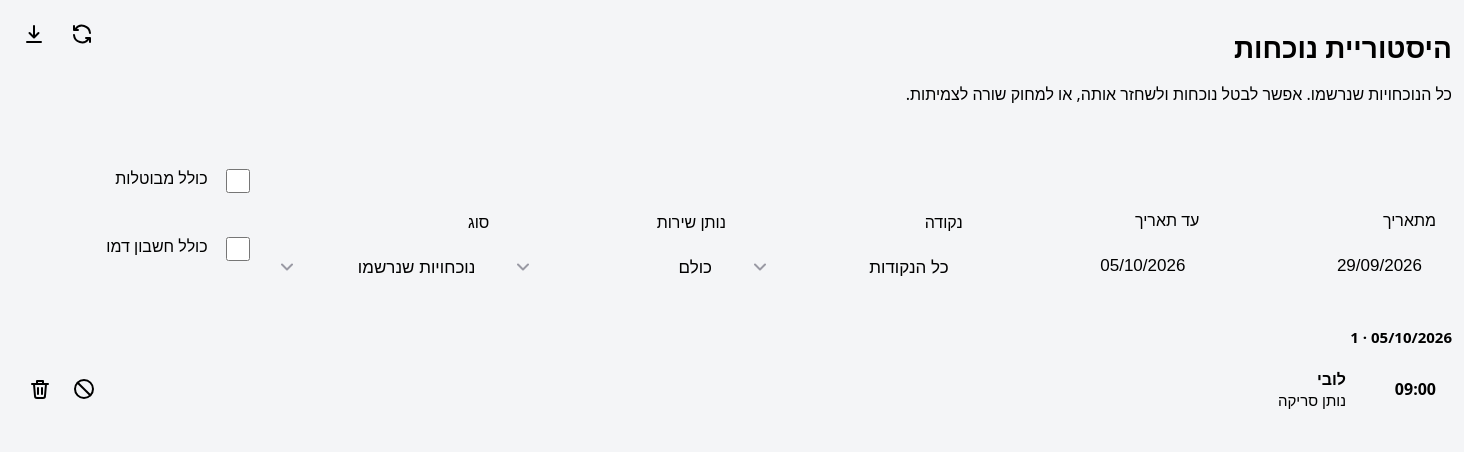
Scenario: paging the visits that were not counted › loads the next page with the cursor of the endpoint, with the same filters, and ends when there is none
Expected: the text "נותן סריקה" is shown, [1278,390,1346,410]
Step 1. Select "לא נקלטו" in the dropdown labelled "סוג" → (377, 267), box [265,241,489,293]
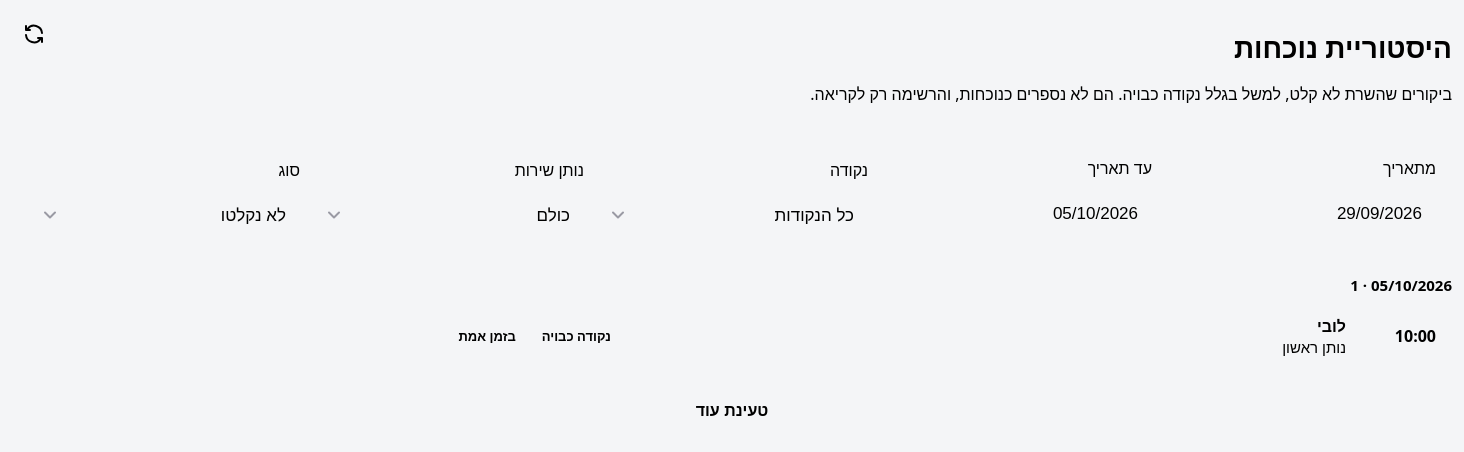
Now the text "נותן ראשון" is shown, box [1282,337,1346,357]
Step 2. Click the button "טעינת עוד" → (732, 411), box [678,387,786,435]
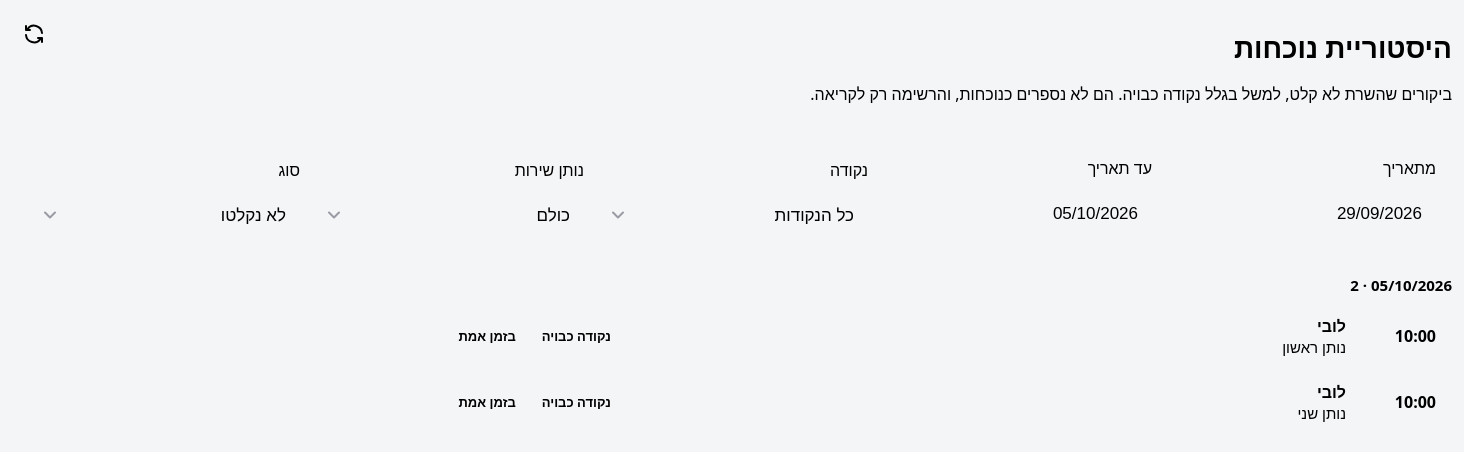
Now the text "נותן ראשון" is shown, box [1282,337,1346,357]
Now the text "נותן שני" is shown, box [1297,403,1346,423]
Now the button "טעינת עוד" is gone
